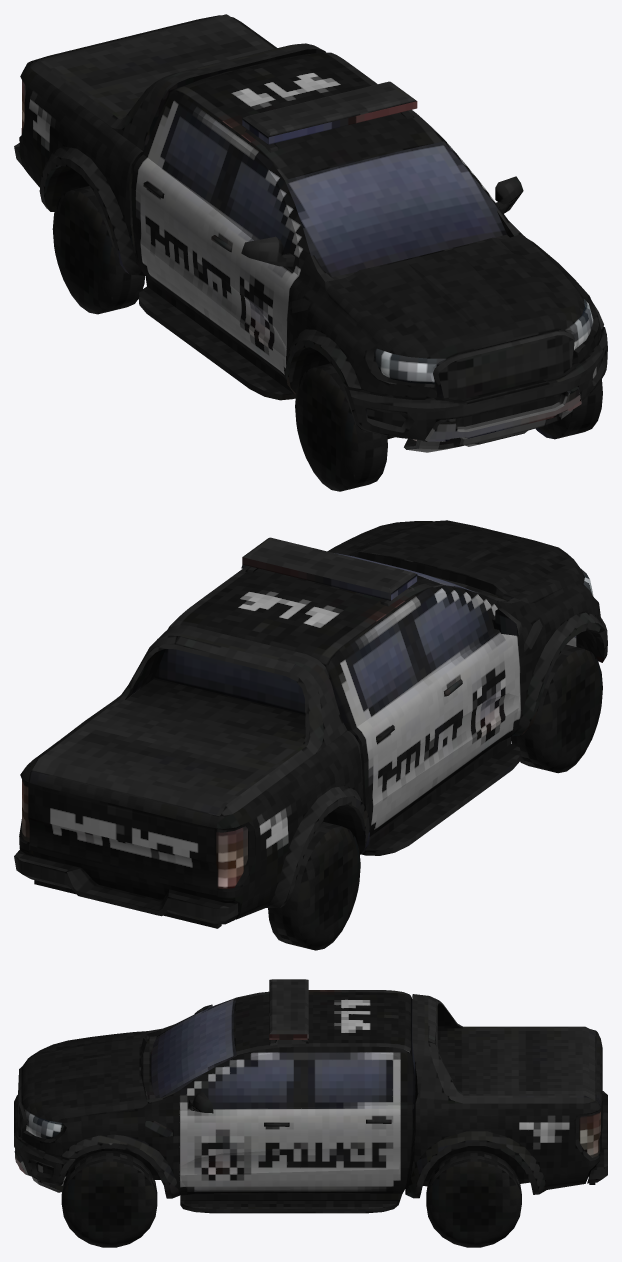
The model's file is POLI.fbx.
3 renders of one model, top to bottom at view 1: azimuth 30°, elevation 25°; view 2: azimuth 150°, elevation 25°; view 3: azimuth 270°, elevation 25°, orthographic. The views are drawn at different scales.
Visible parts, largest first — view 1: POLI; view 2: POLI; view 3: POLI.
Boxes of the visible parts, <box> form: POLI: <box>14,14,607,491</box>; POLI: <box>14,520,607,950</box>; POLI: <box>14,979,607,1247</box>.
Bounding box in the file's own units: 213 × 193 × 525.
1 material, 1 textured.
